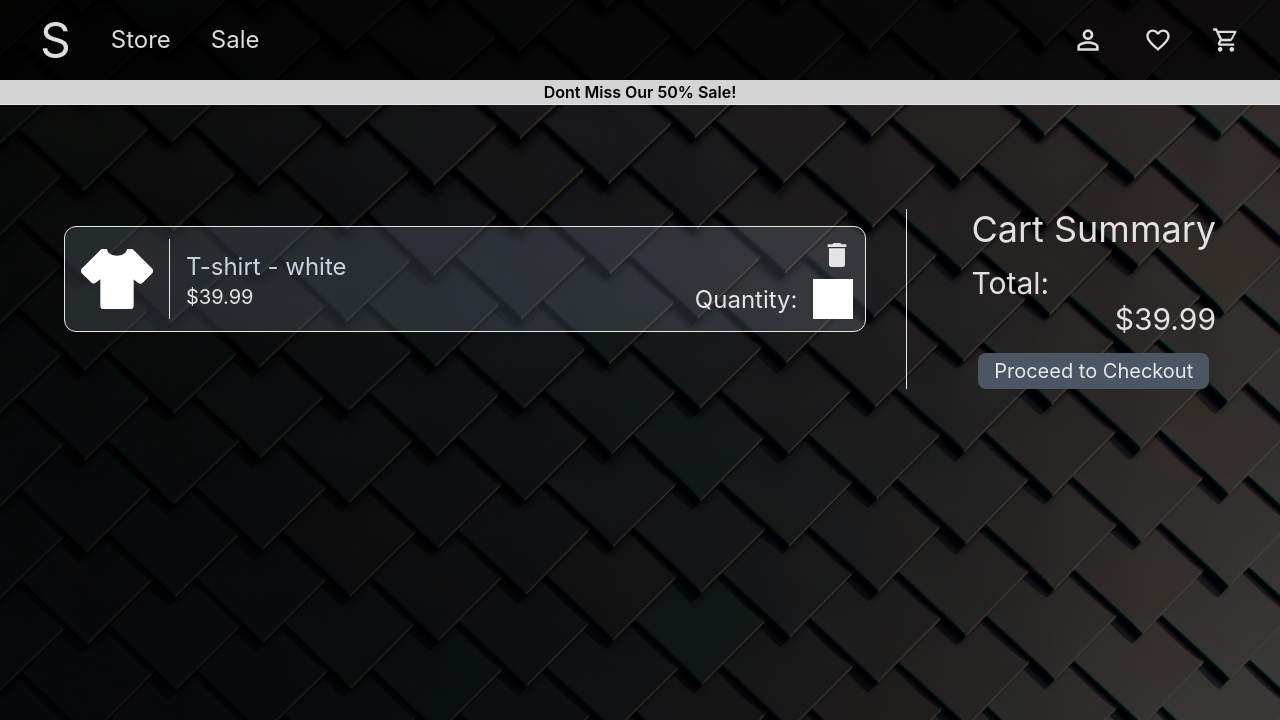
Cart Page › removes item when deleted
Step 1. Click the button named "delete" → {"x": 838, "y": 255}, box [822,239,854,271]
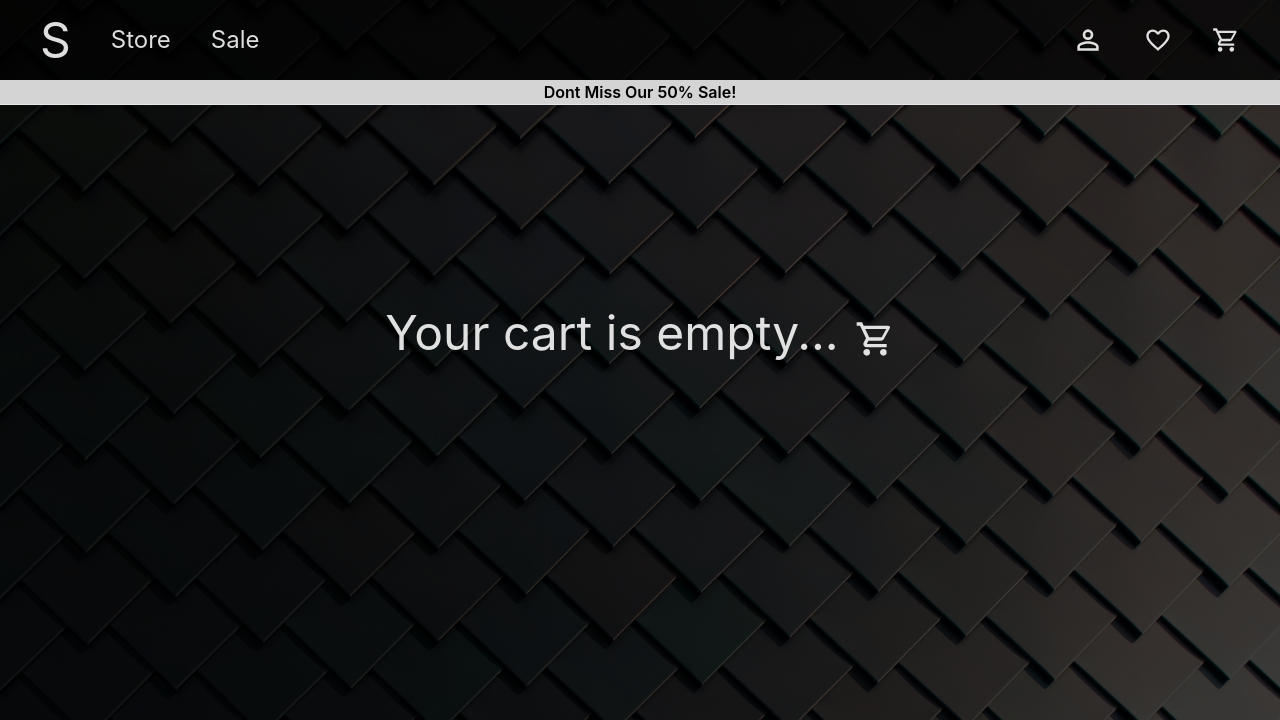
expect the text "T-shirt - white" is gone: met
